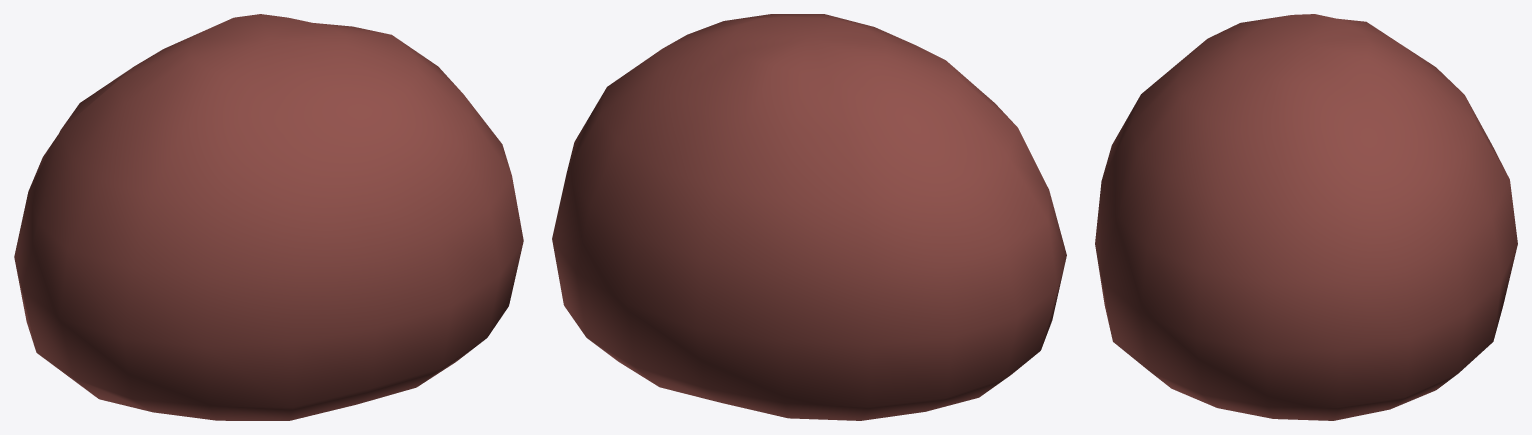
The model's file is heath_grouse_gizzard.glb.
3 views of the same model, side by side, from view 1: azimuth 30°, elevation 25°; view 2: azimuth 150°, elevation 25°; view 3: azimuth 270°, elevation 25° (orthographic). The views are drawn at different scales.
Visible parts, largest first — view 1: heath_grouse_gizzard; view 2: heath_grouse_gizzard; view 3: heath_grouse_gizzard.
Part boxes in pixels (x1=…): heath_grouse_gizzard: x1=14, y1=14, x2=523, y2=420; heath_grouse_gizzard: x1=552, y1=14, x2=1066, y2=420; heath_grouse_gizzard: x1=1095, y1=14, x2=1517, y2=420.
Size of the model in its own units: 0.03 by 0.02 by 0.025.
